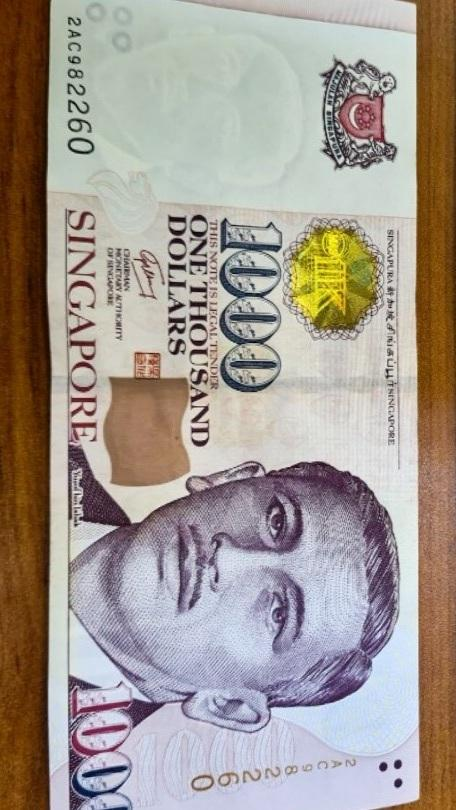1000SingaporeDollar: (54, 0, 415, 810)
